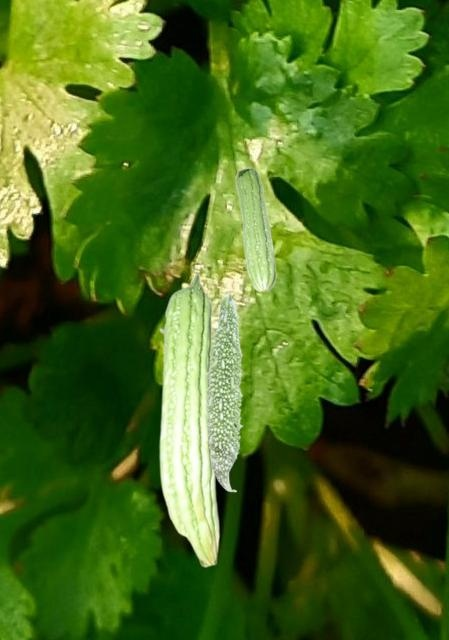ampalaya: (156, 272, 220, 570), (204, 292, 245, 494), (234, 167, 277, 293)
